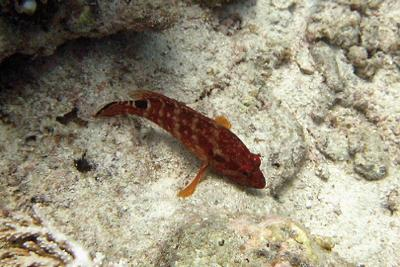Serranidae -Groupers-: (94, 87, 267, 196)
